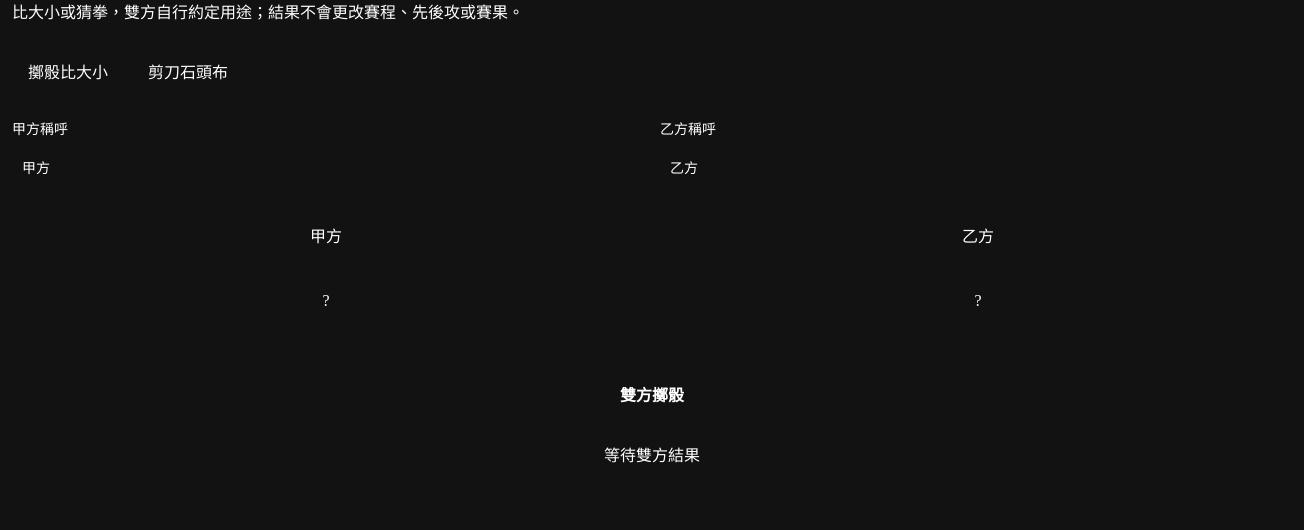
it: 甲方出拳後隱藏答案，乙方確認接手再選，最後一起揭曉
Click the button "剪刀石頭布": (188, 72) x1=132 y1=50 x2=244 y2=95
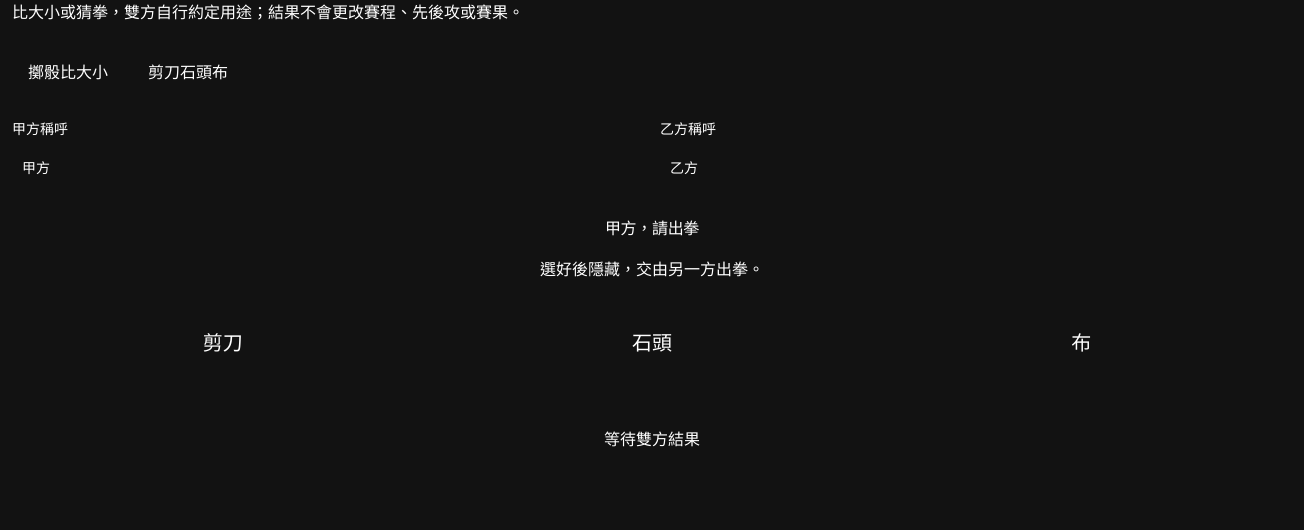
Click the button "剪刀": (223, 343) x1=12 y1=307 x2=433 y2=379
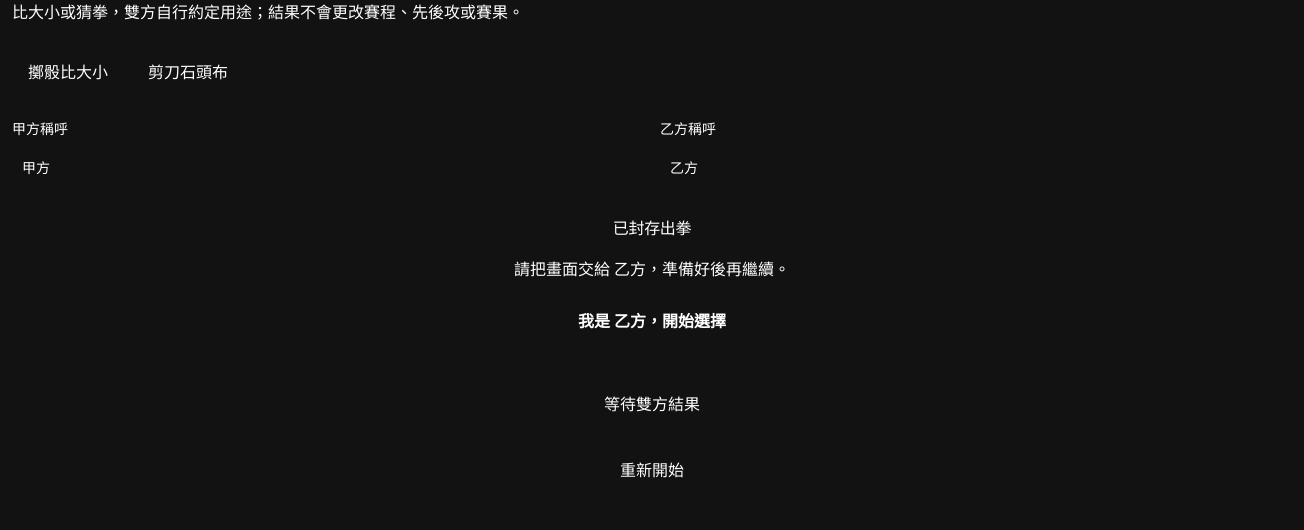
Click the button "我是 乙方，開始選擇": (652, 322) x1=12 y1=299 x2=1292 y2=344
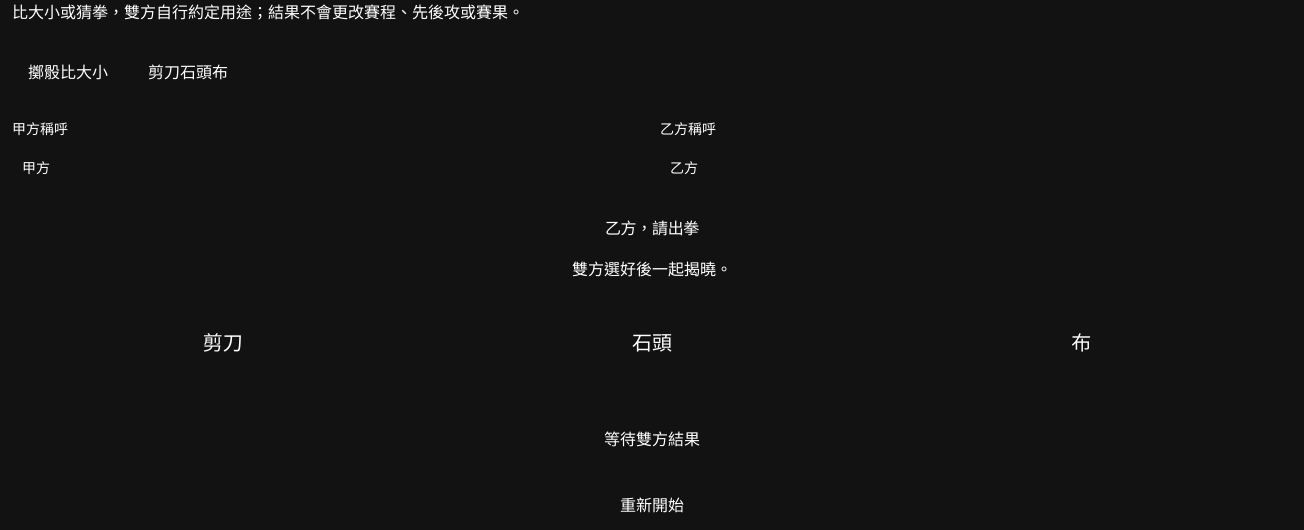
Click the button "布": (1081, 343) x1=871 y1=307 x2=1292 y2=379
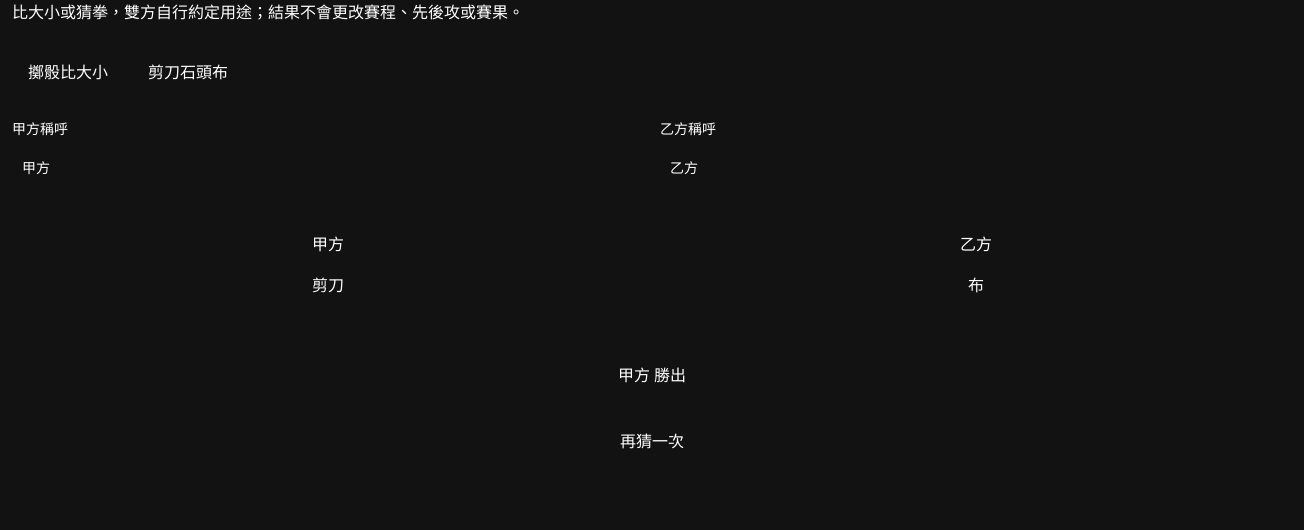
expect the message reads "甲方 勝出": met, box x1=618 y1=367 x2=686 y2=384
Click the button "再猜一次": (652, 442) x1=604 y1=419 x2=700 y2=464
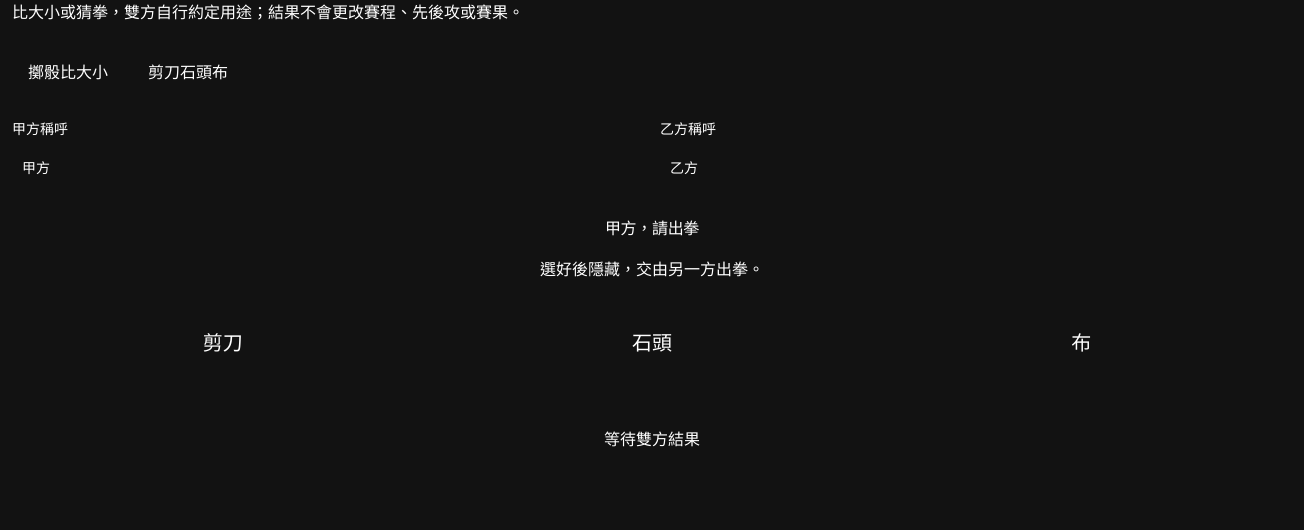
expect the heading "甲方，請出拳" is shown: met, box x1=605 y1=220 x2=699 y2=237
